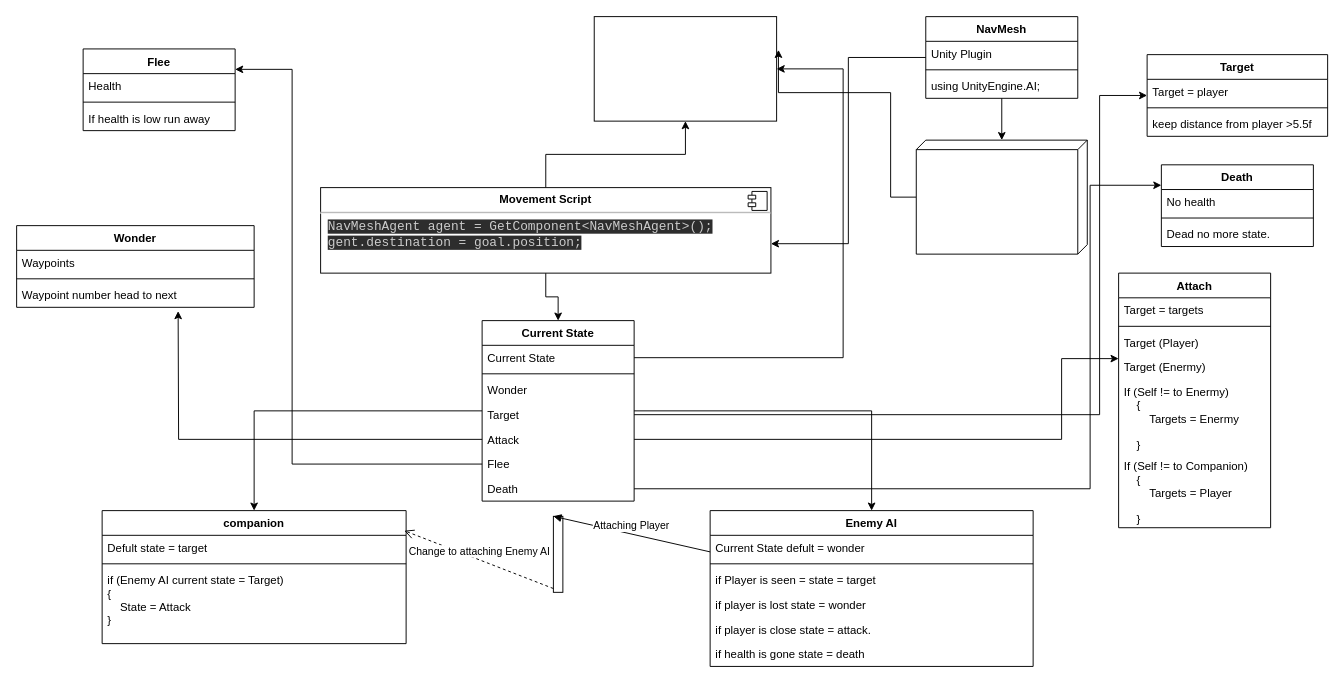
This 1344x686 diagram has some shape labels left out. The shapes that lost their labels are listed below. From the top down, each one's centre as x and y in pixels, then its label:
the point at 685,68: State Machine
the point at 1001,196: Unity Scene
